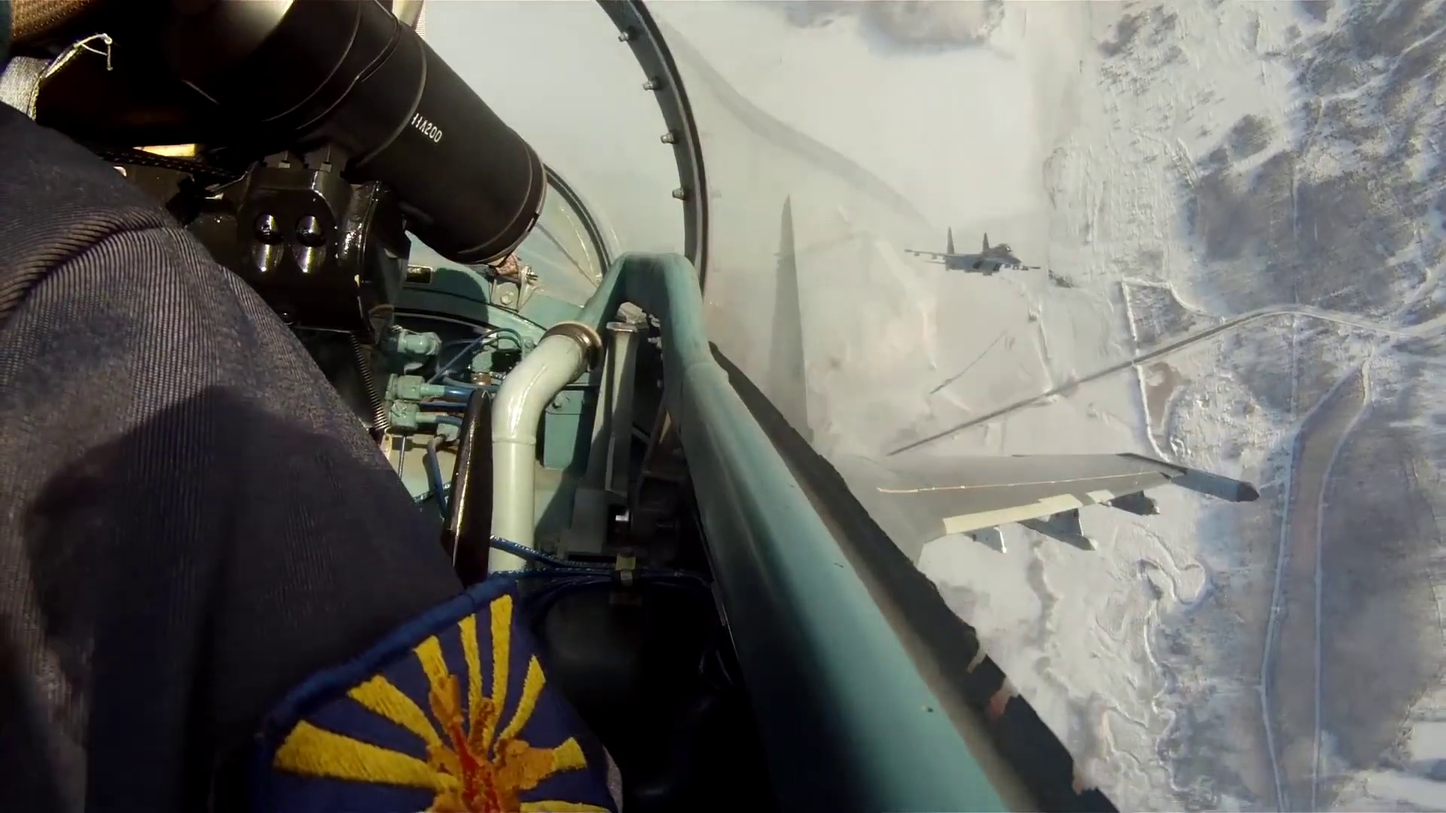Su35: (903, 224, 1041, 277)
